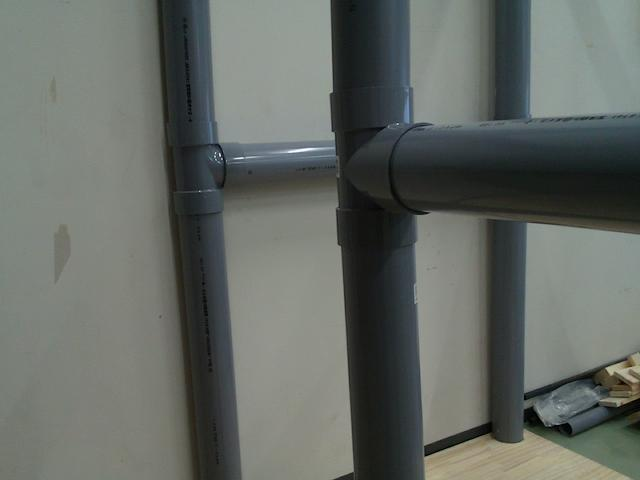junction: (326, 84, 450, 249), (164, 121, 247, 219)
